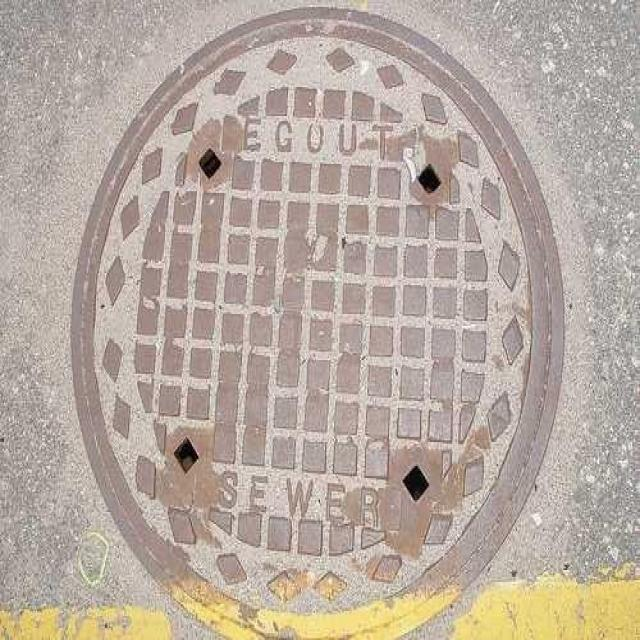manhole: (69, 9, 567, 640)
